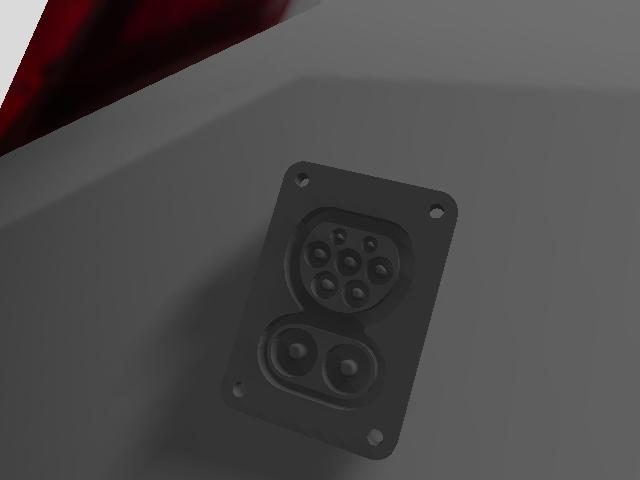EV-socket: (221, 162, 456, 458)
